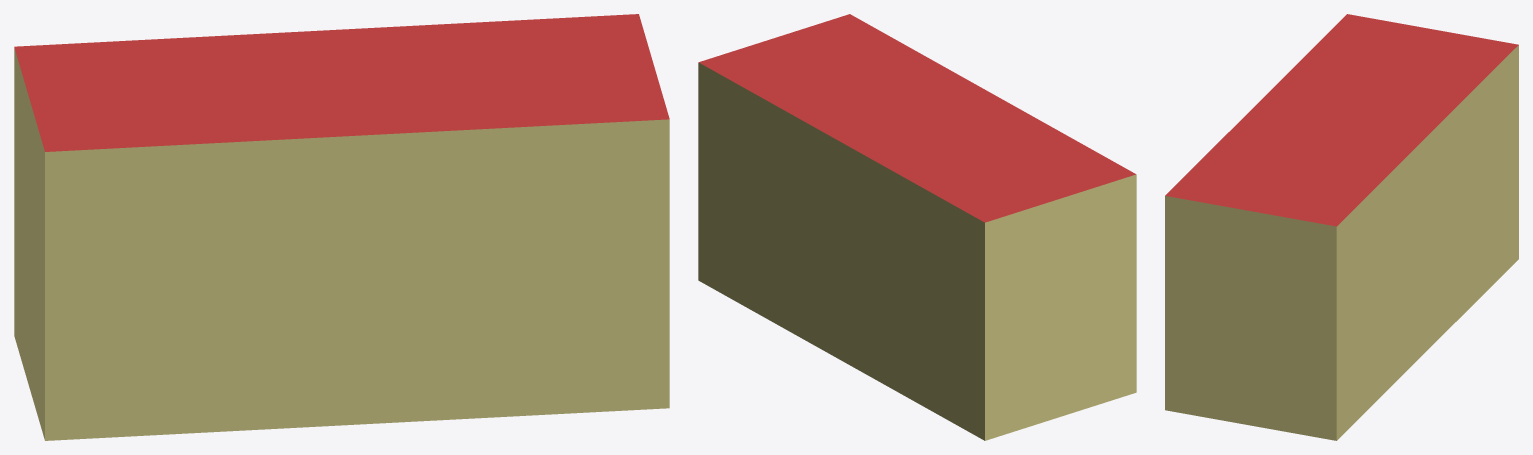
3 views of the same model, side by side, from view 1: azimuth 30°, elevation 25°; view 2: azimuth 150°, elevation 25°; view 3: azimuth 270°, elevation 25° (orthographic). The views are drawn at different scales.
Size of the model in its own units: 16.4 by 11.54 by 7.71.
